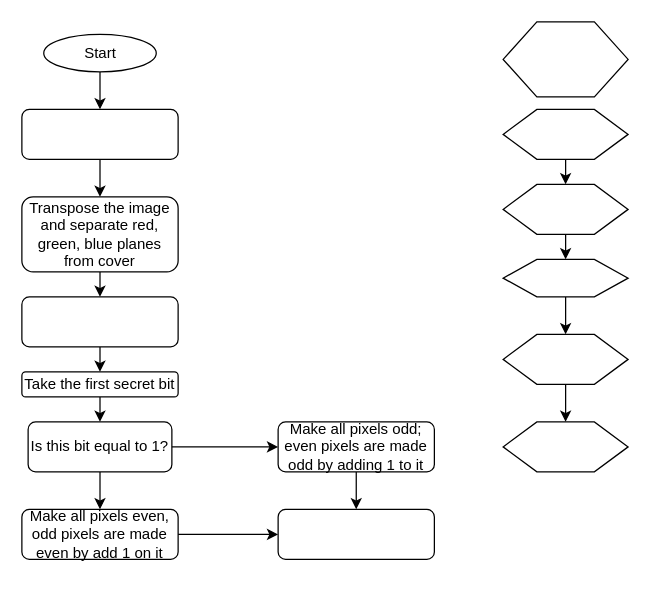
The diagram is 650 pixels wide and 598 high, and some of its shapes have lost their labels. The shapes that lost their labels are listed below. From the top down, each one's centre as x and y in pixels, then its label:
[99,133]: Select cover image, secret key and secret data
[99,321]: Encrypt data using multi-level encryption
[355,533]: Consider a pixel for embedding
